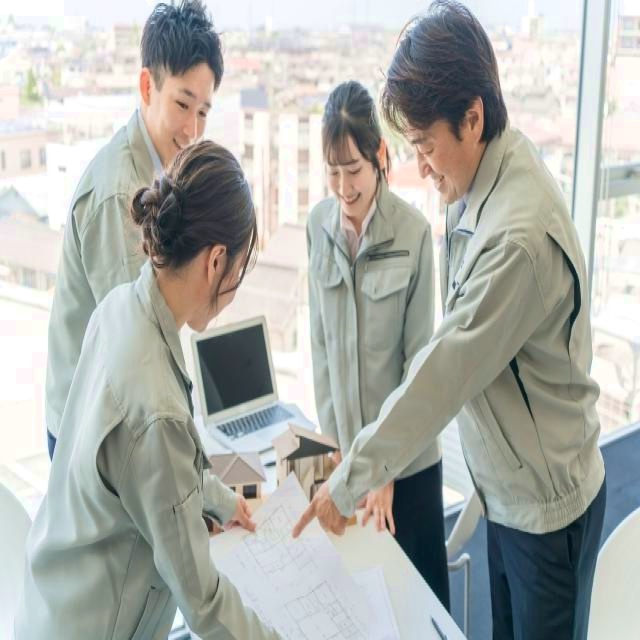Sin_Casco_Mascarrilla: (390, 0, 508, 200), (146, 141, 253, 335), (141, 0, 223, 151), (321, 79, 387, 214)
